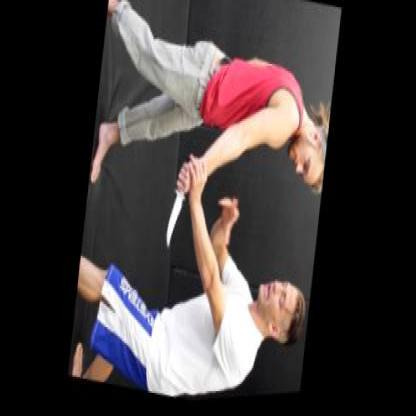knife: (162, 150, 193, 257)
